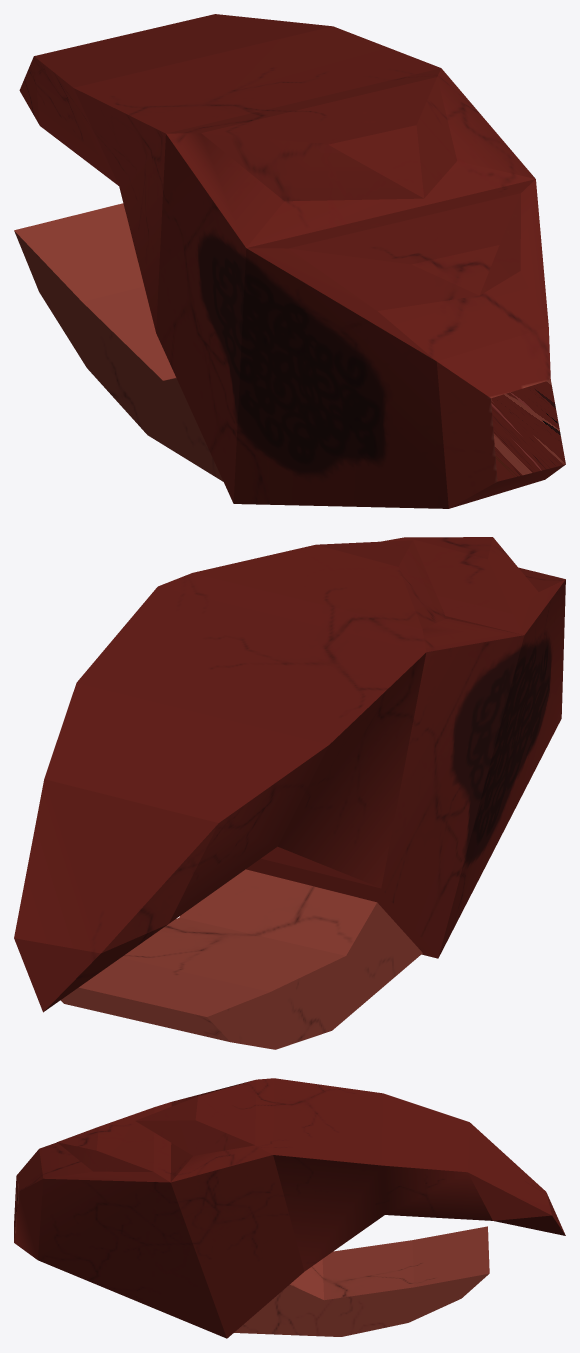
File: hand.fbx
The picture shows the model from 3 angles, top to bottom: view 1: azimuth 30°, elevation 25°; view 2: azimuth 150°, elevation 25°; view 3: azimuth 270°, elevation 25°; orthographic projection. The views are drawn at different scales.
Visible parts, largest first — view 1: Object021; view 2: Object021; view 3: Object021.
Part boxes in pixels (x1,y1,x2,y2): Object021: (14, 14, 565, 508); Object021: (14, 537, 565, 1049); Object021: (14, 1078, 565, 1338).
Size of the model in its own units: 37.13 by 45.25 by 108.
1 material, 1 textured.
